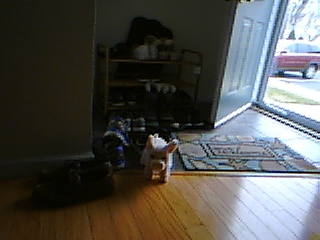piggy: (139, 131, 180, 184)
